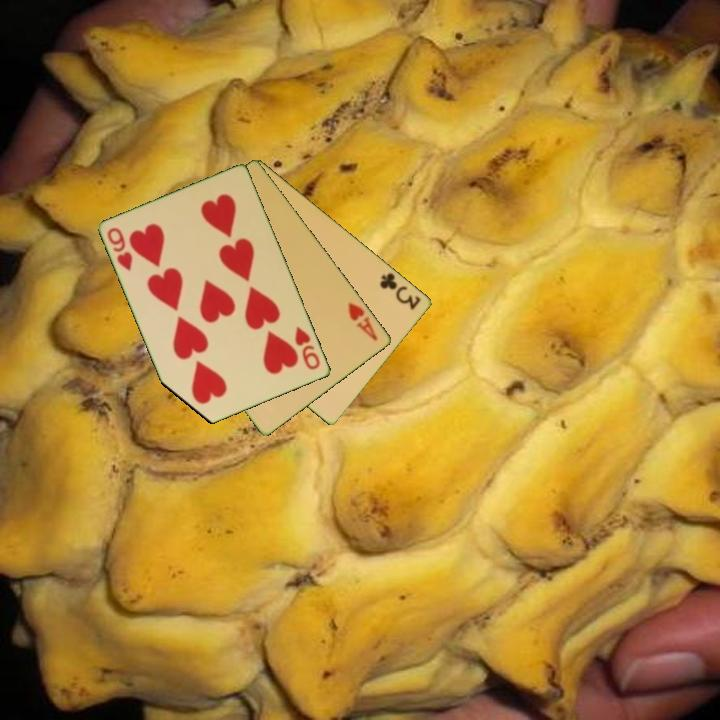3c: (377, 269, 424, 313)
9h: (104, 224, 136, 274), (292, 323, 323, 373)
Ah: (345, 299, 381, 344)
